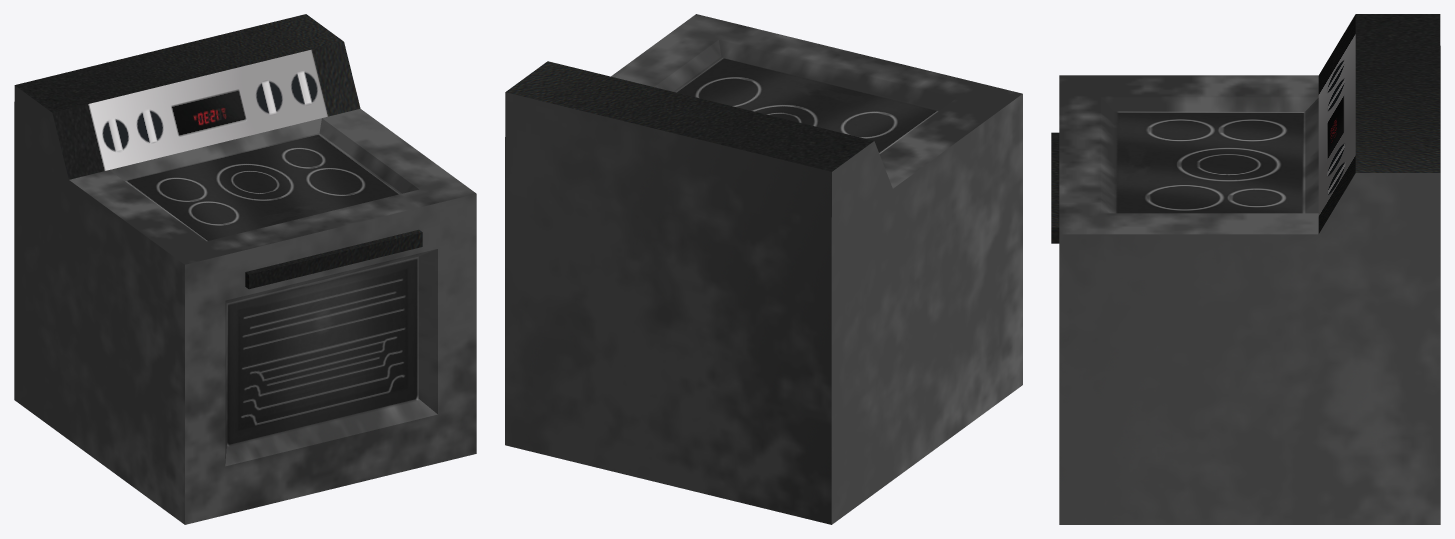
The picture shows the model from 3 angles, left to right: view 1: azimuth 30°, elevation 25°; view 2: azimuth 150°, elevation 25°; view 3: azimuth 270°, elevation 25°; orthographic projection. The views are drawn at different scales.
Visible parts, largest first — view 1: pCube38_OvenLam_0; view 2: pCube38_OvenLam_0; view 3: pCube38_OvenLam_0.
Boxes of the visible parts, box(x1,y1,x2,y2) form: pCube38_OvenLam_0: box(14, 14, 476, 524); pCube38_OvenLam_0: box(505, 14, 1022, 524); pCube38_OvenLam_0: box(1051, 14, 1440, 524).
Size of the model in its own units: 3.69 by 3.81 by 3.82.
1 material, 1 textured.
